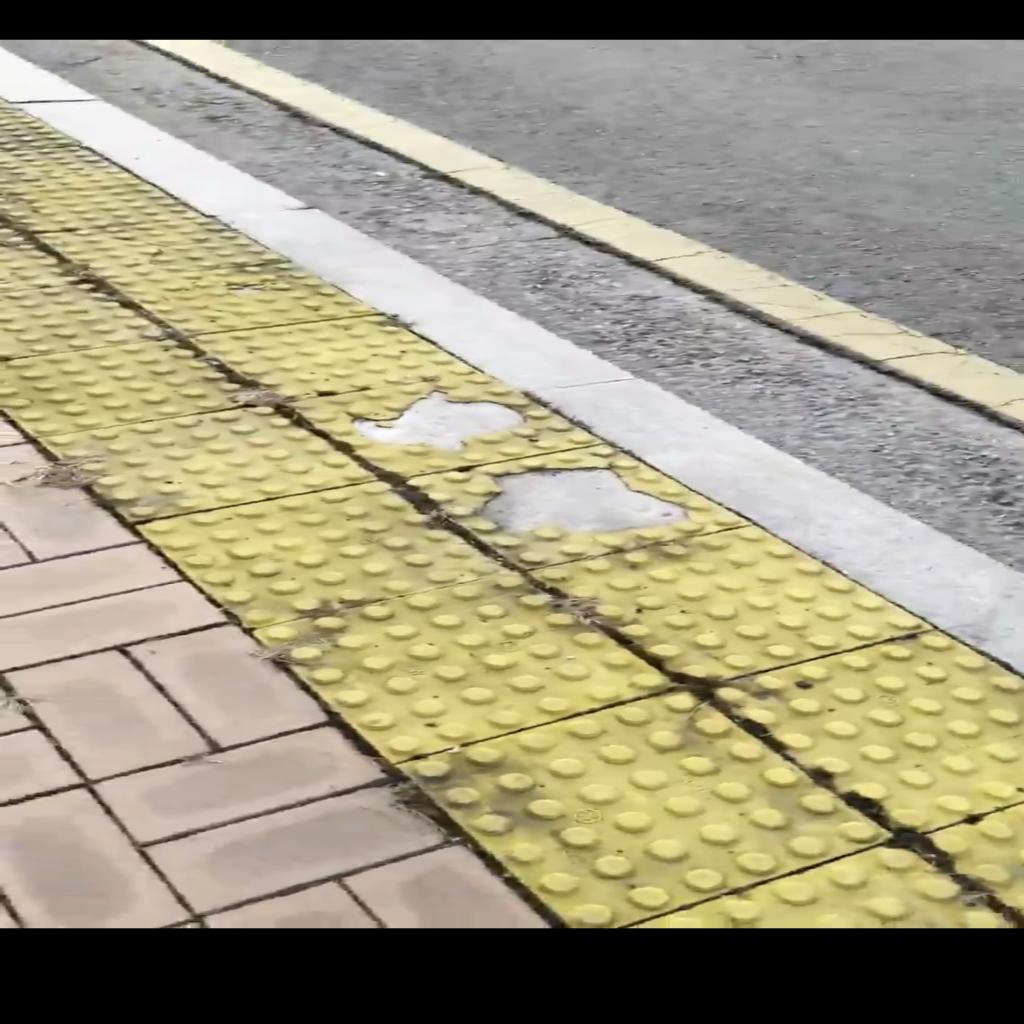Stop block broken: (406, 417, 750, 585), (288, 351, 601, 495)
Stop block normal: (248, 525, 671, 791), (189, 298, 481, 412)
